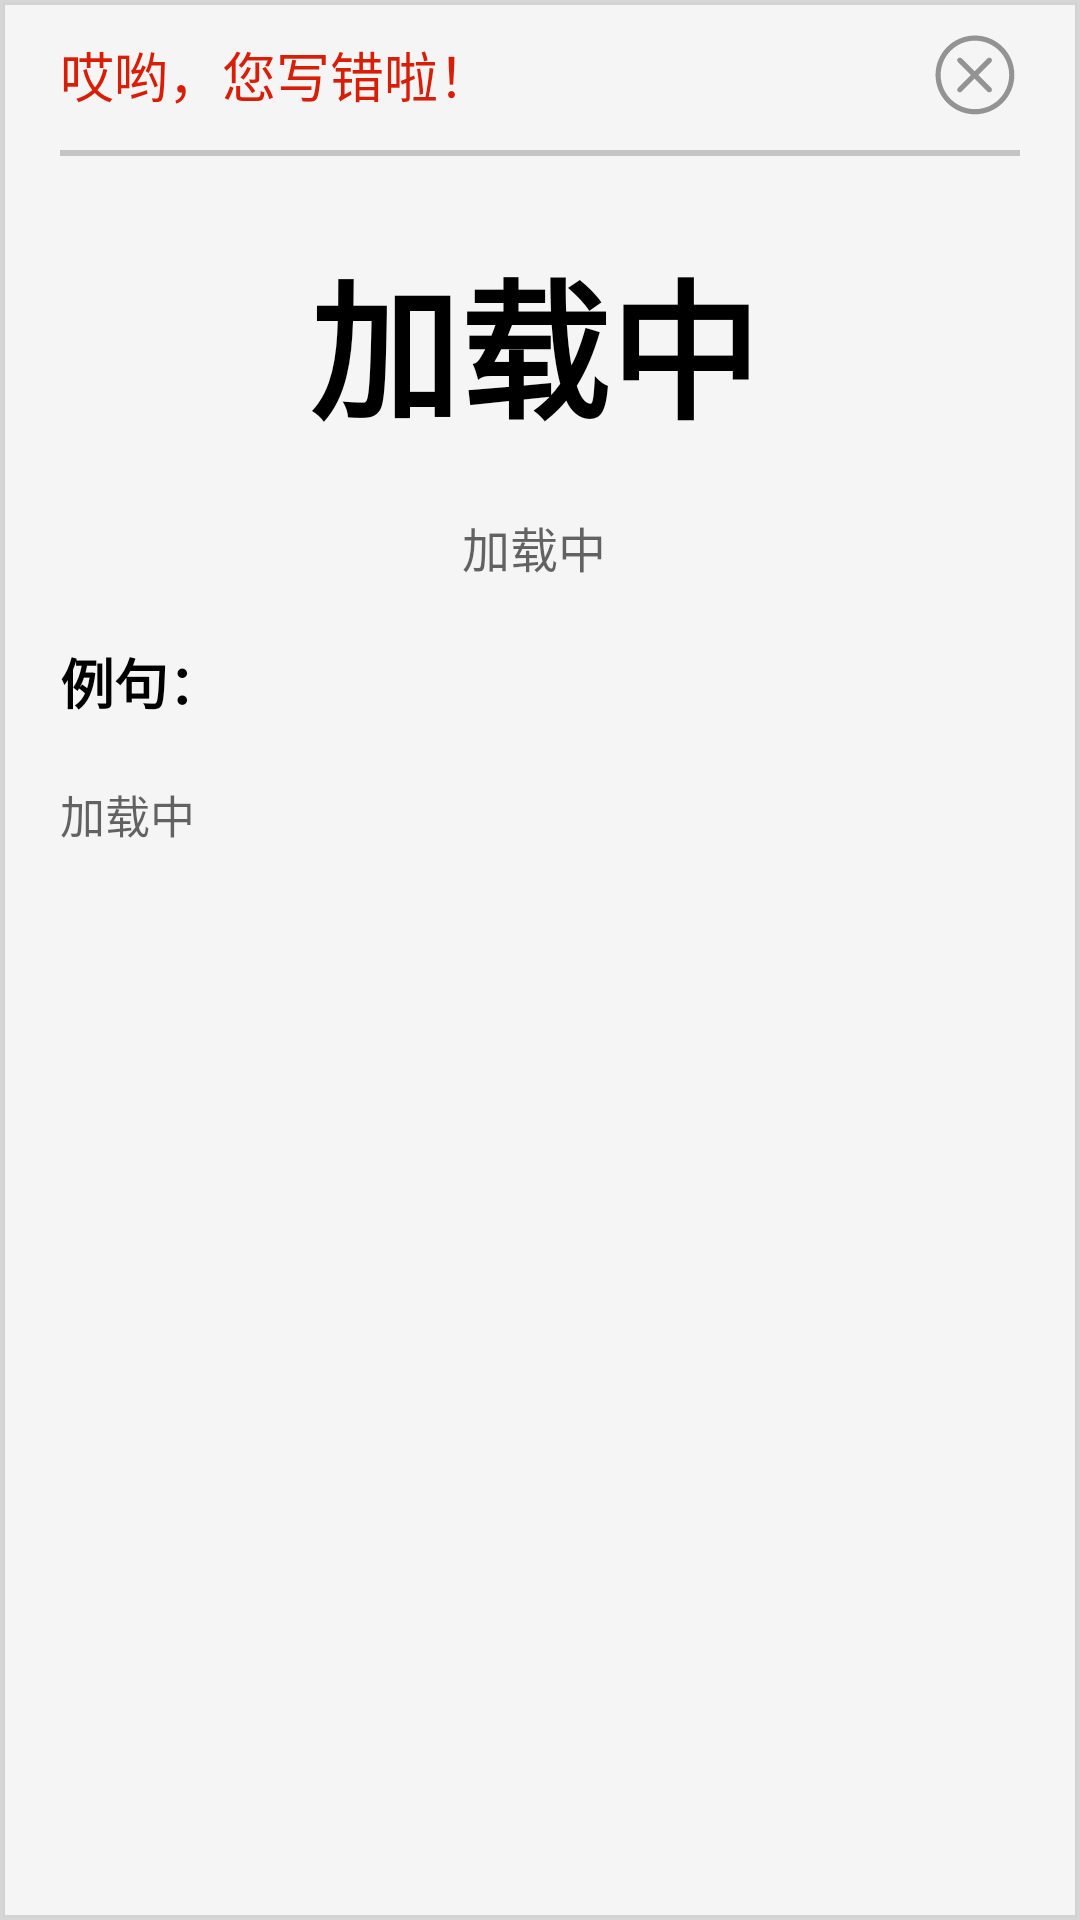

Screen size 1080×1920. Icon name, then its center in pixels as [x,y]:
public warning close: [974,74]
